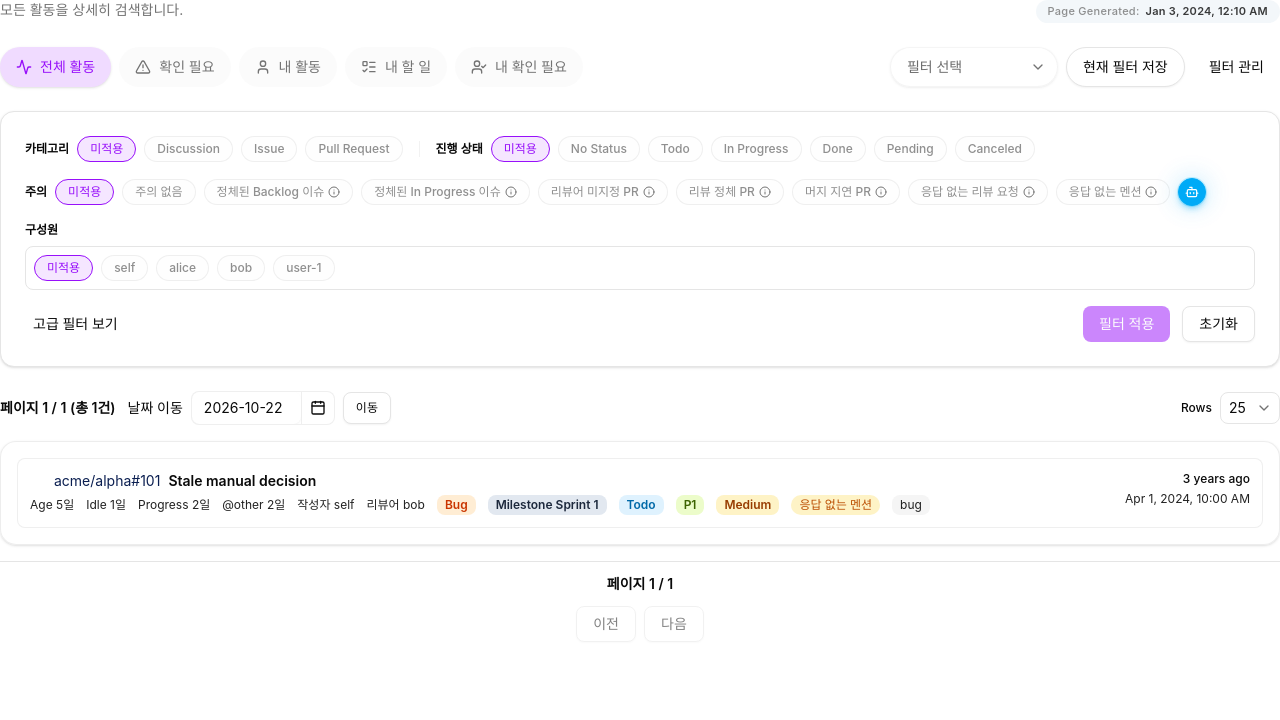
Scenario: ActivityView › shows stale manual decision messaging when override response is stale
The image size is (1280, 720).
Click the button "Stale manual decision". click: (640, 493)
box: [30,471,1250,515]
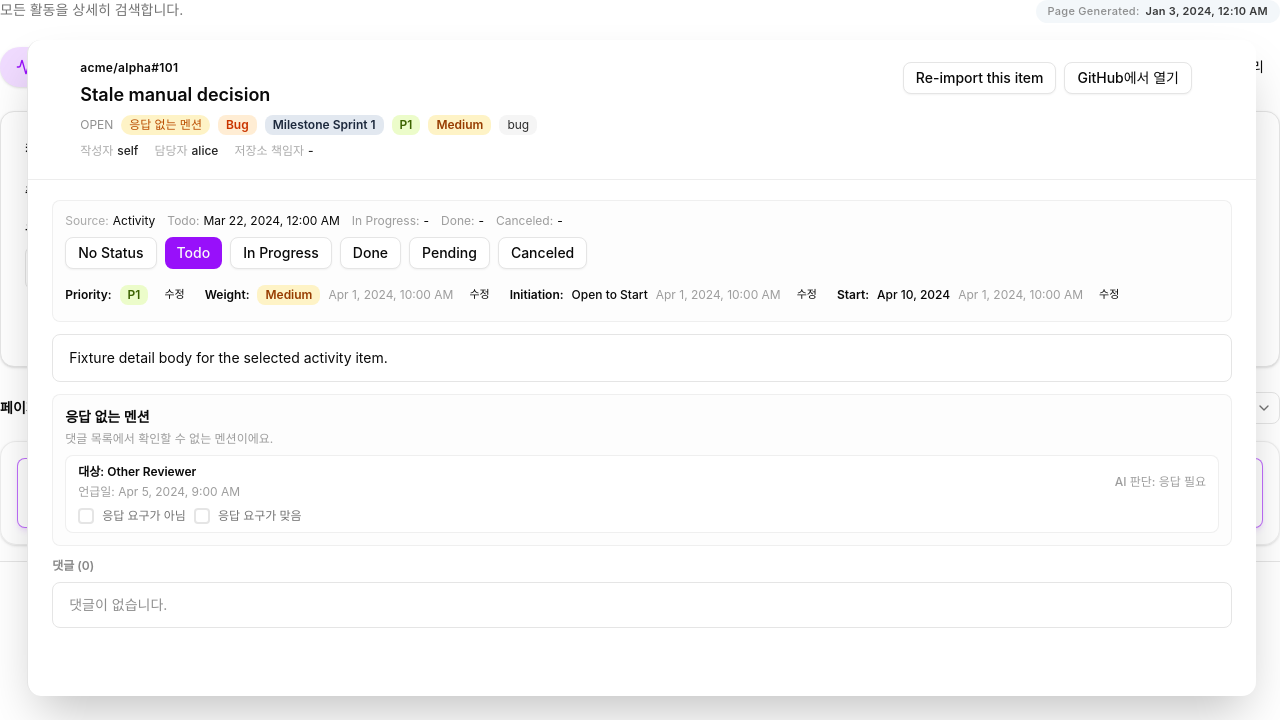
Click the checkbox labelled "응답 요구가 맞음". click: (248, 516)
box: [194,508,302,524]
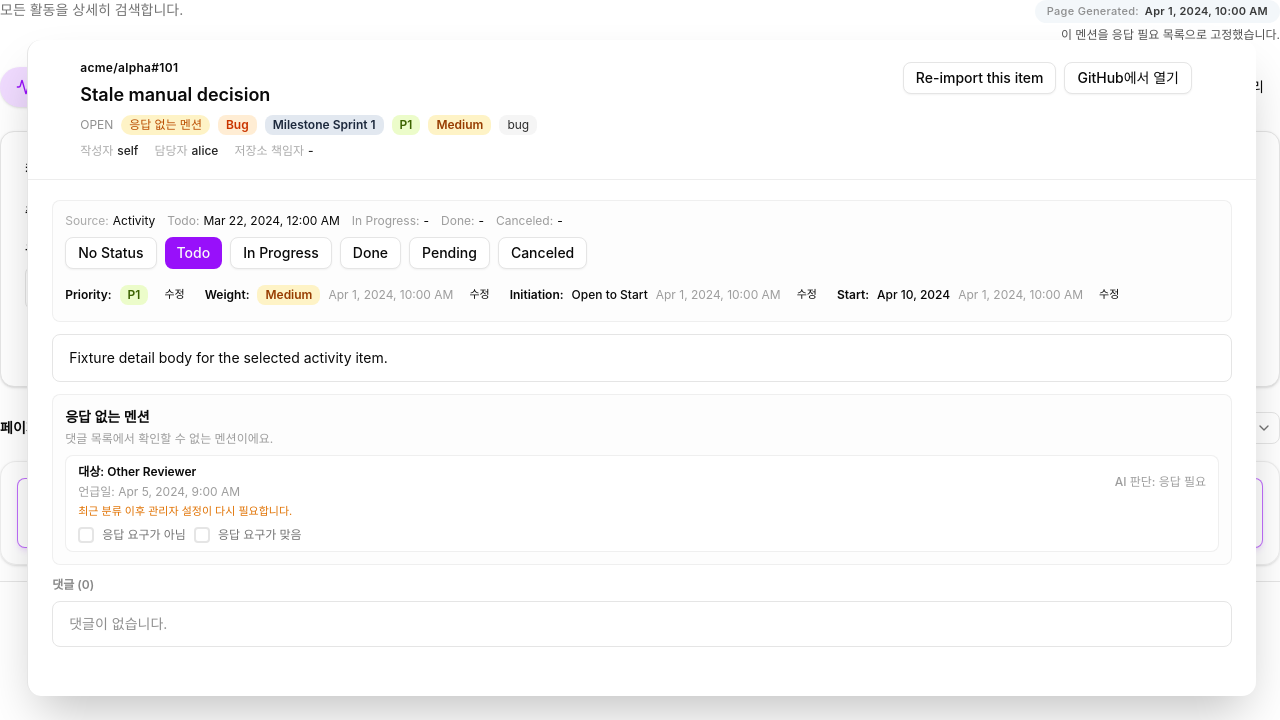
Result: the checkbox labelled "응답 요구가 맞음" is not checked at [194,527,302,543]
Result: the text "최근 분류 이후 관리자 설정이 다시 필요합니다." is shown at [78,504,292,518]
